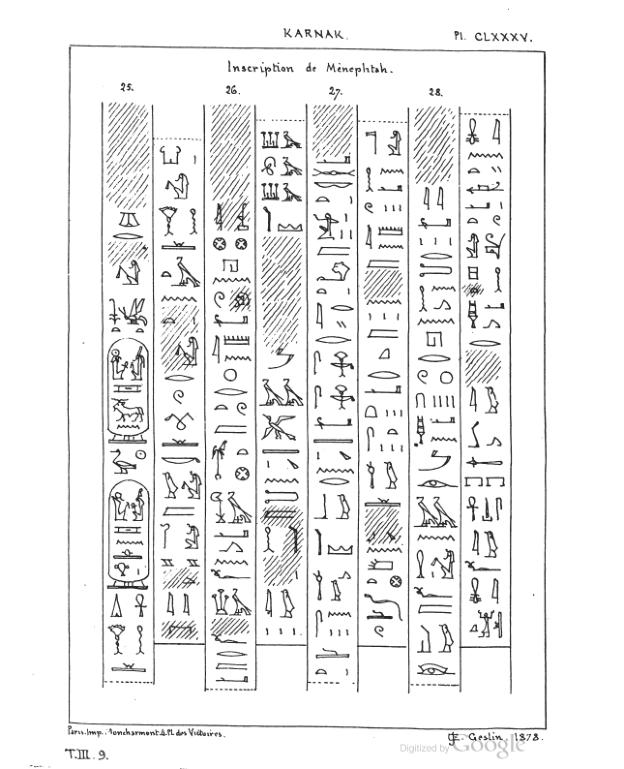circle: (105, 479, 150, 590), (107, 337, 149, 445)
